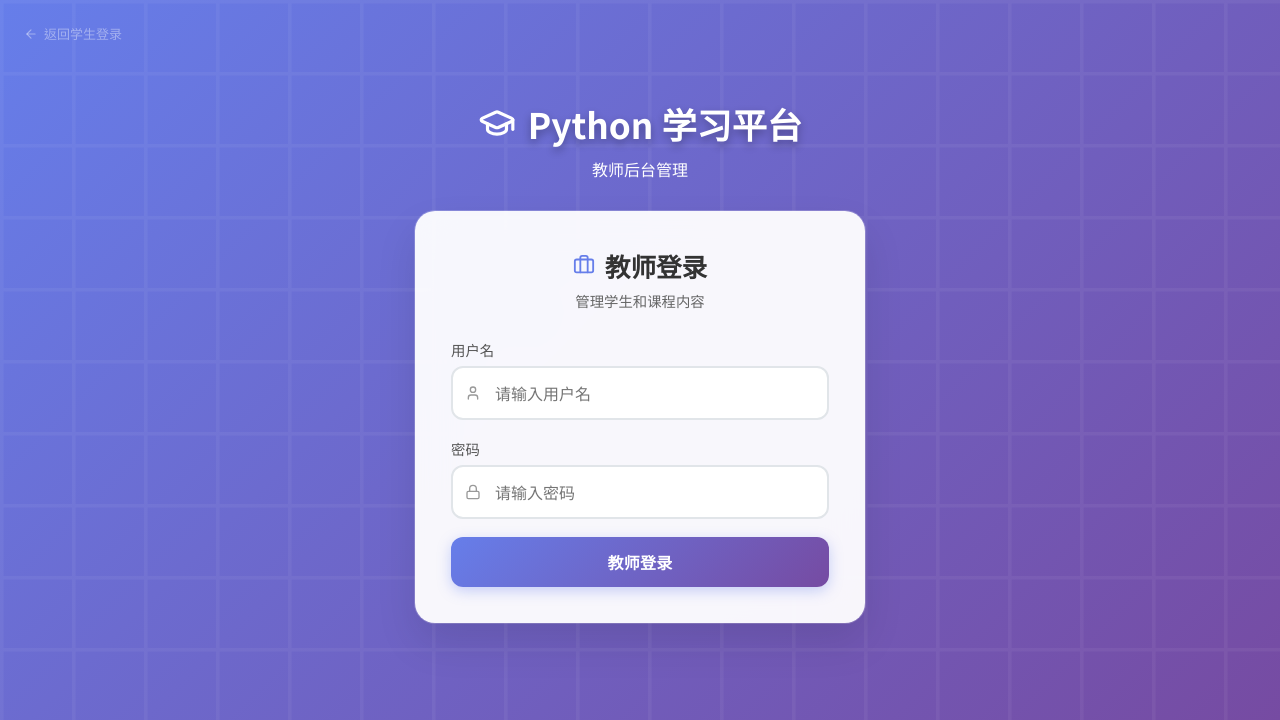
Test: TeacherLogin.jsx › shows error when submitting empty form
Click the button "教师登录". click: point(640, 562)
box: [451,536,829,586]
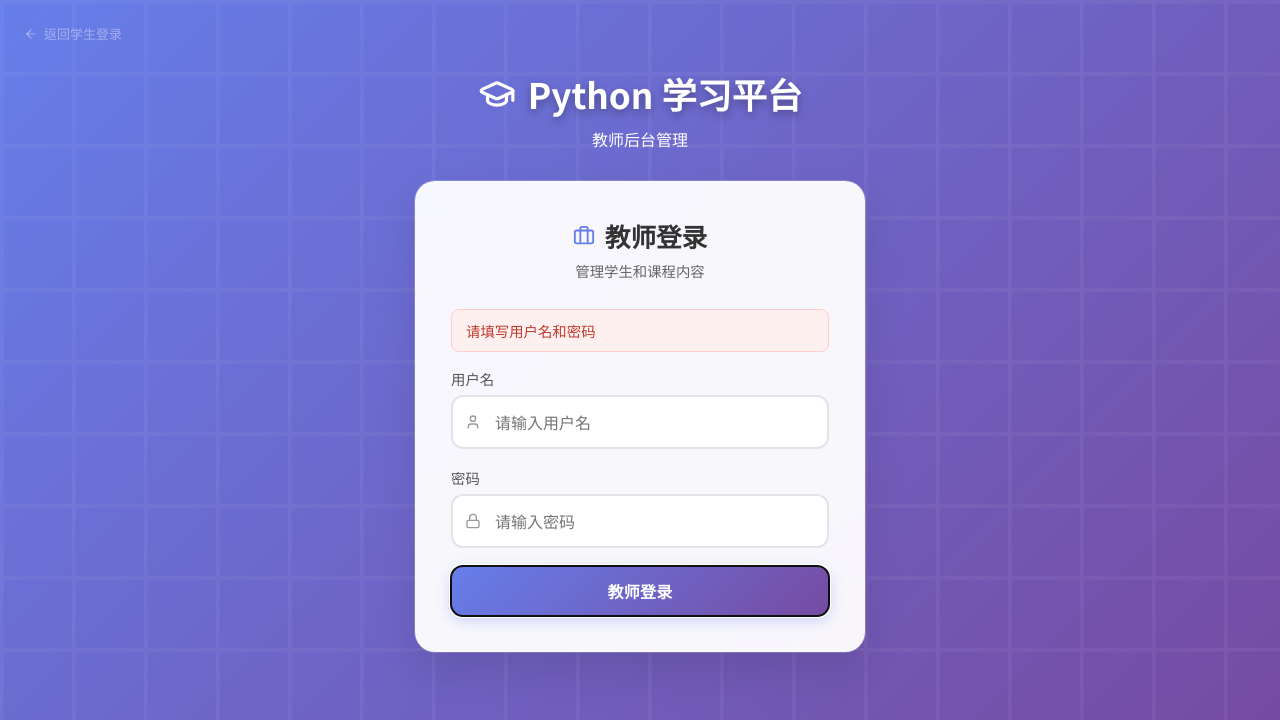
Now the text "请填写用户名和密码" is shown, box [451,309,829,352]
